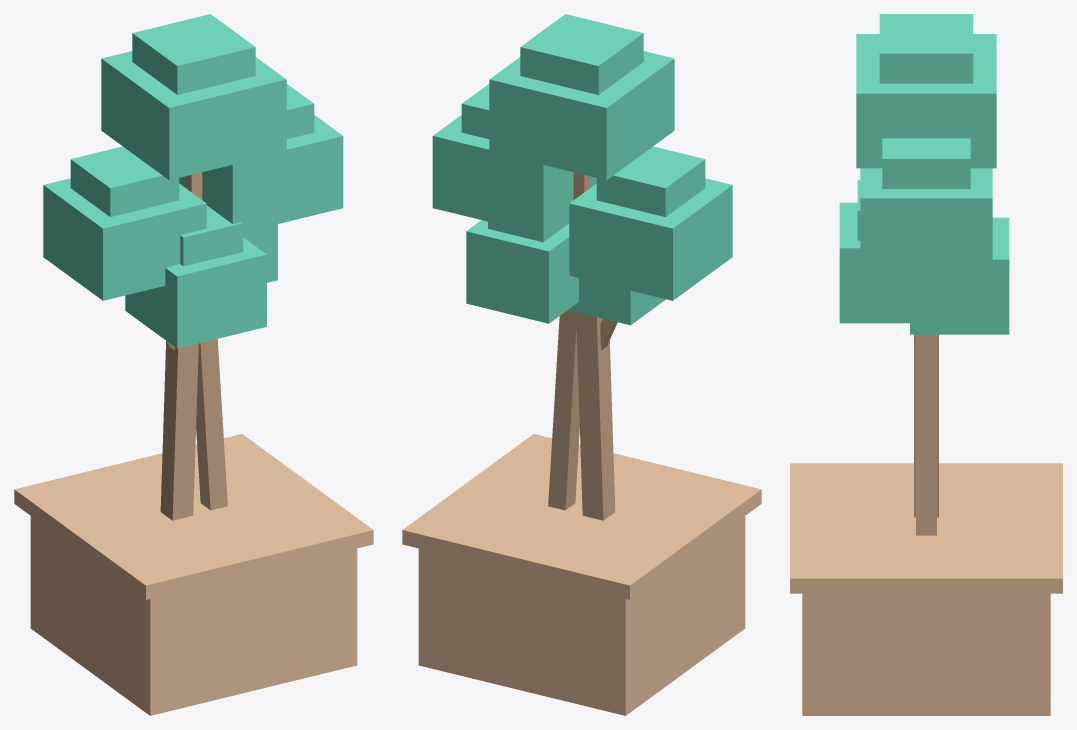
Rendered from plantOliveTree.glb.
3 renders of one model, left to right at view 1: azimuth 30°, elevation 25°; view 2: azimuth 150°, elevation 25°; view 3: azimuth 270°, elevation 25°, orthographic. The views are drawn at different scales.
Parts seen in each view (by area): view 1: plantOliveTree; view 2: plantOliveTree; view 3: plantOliveTree.
Boxes of the visible parts, bbox=[...] form: plantOliveTree: bbox=[14, 14, 373, 715]; plantOliveTree: bbox=[402, 14, 761, 715]; plantOliveTree: bbox=[790, 14, 1062, 715].
Bounding box in the file's own units: 0.345 × 0.84 × 0.33.
